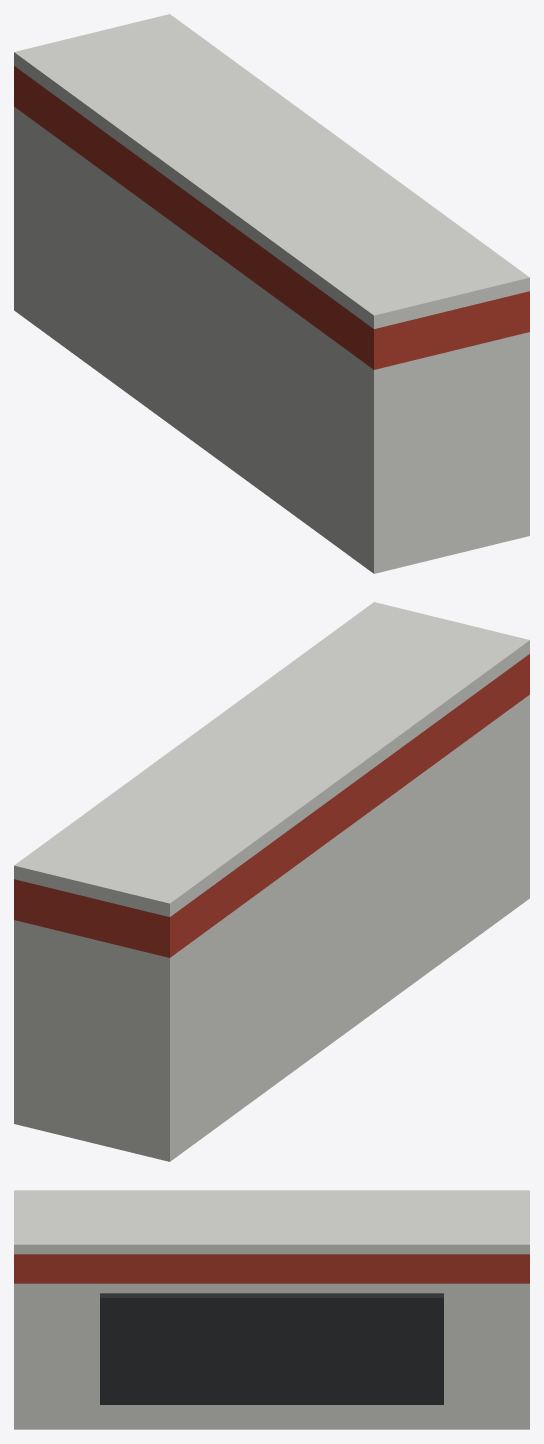
File: caravan_gas_locker.glb
3 views of the same model, one above another, from view 1: azimuth 30°, elevation 25°; view 2: azimuth 150°, elevation 25°; view 3: azimuth 270°, elevation 25° (orthographic). The views are drawn at different scales.
Parts seen in each view (by area): view 1: body:compound; view 2: body:compound; view 3: body:compound.
Boxes of the visible parts, x1,y1,x2,y2 form: body:compound: (14, 14, 529, 573); body:compound: (14, 602, 529, 1161); body:compound: (14, 1190, 529, 1429).
Bounding box in the file's own units: 0.4062 × 0.5938 × 1.5.
